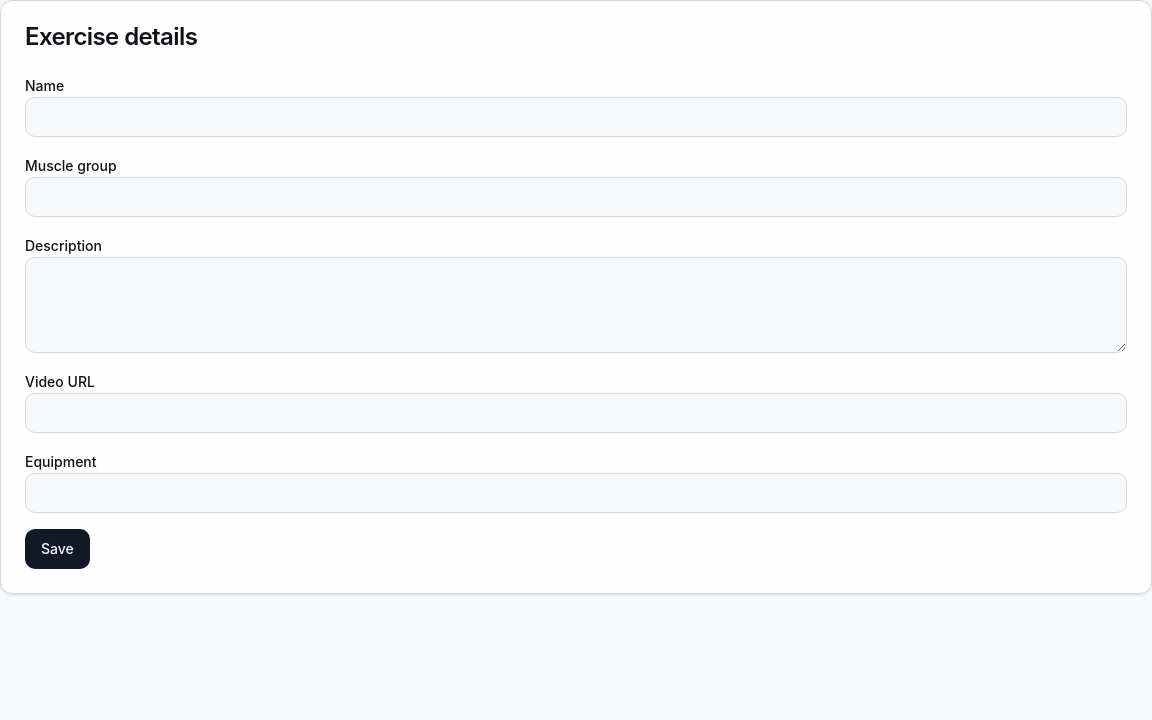
ExerciseForm › shows validation error when name is empty
Click the button "Save" at (57, 549), box [25, 529, 90, 569]
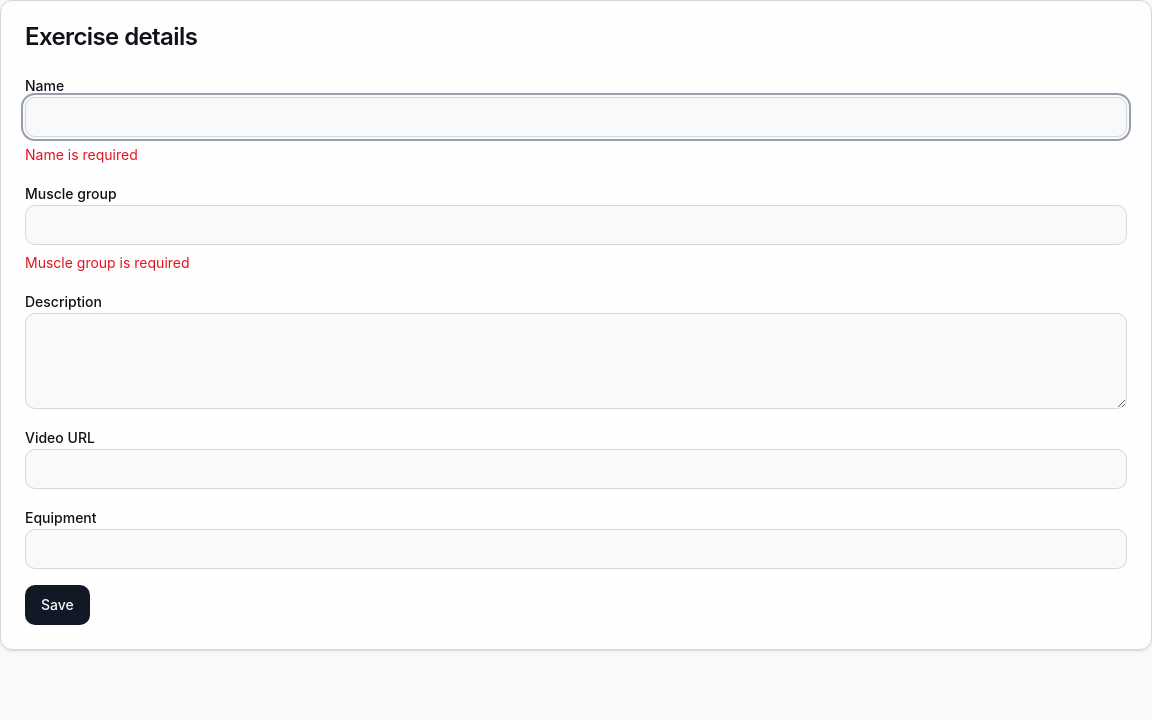
Expected: the text "Name is required" is shown, [25, 146, 138, 163]
